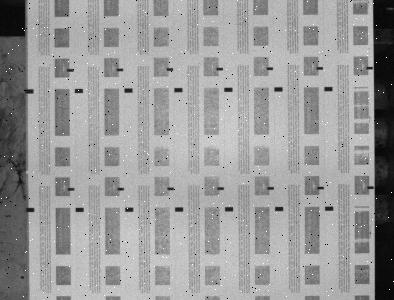qblock: (26, 207, 35, 212), (125, 207, 134, 212), (124, 88, 133, 93), (76, 207, 84, 212), (225, 87, 233, 92), (276, 206, 284, 211), (175, 207, 184, 211), (225, 207, 234, 211), (325, 206, 334, 210), (25, 89, 34, 93), (275, 87, 283, 91), (175, 88, 183, 92), (325, 87, 333, 91), (75, 89, 83, 93)
smallqblock: (68, 187, 75, 191), (67, 68, 74, 72), (367, 66, 374, 70), (117, 187, 124, 190), (167, 68, 174, 71), (317, 67, 324, 70), (167, 187, 174, 190), (368, 186, 375, 189), (218, 187, 225, 190), (268, 187, 275, 190), (318, 186, 325, 189), (217, 67, 224, 70), (267, 67, 274, 70), (117, 68, 123, 71)
